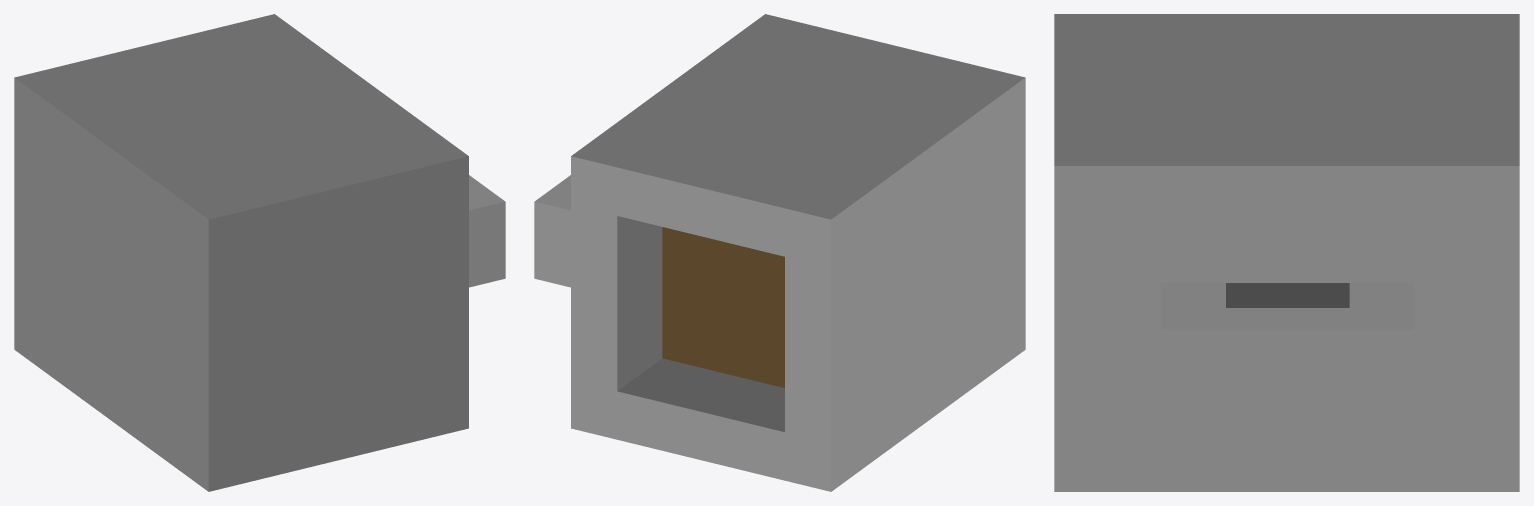
Rendered from CoffeeMug.glb.
3 views of the same model, side by side, from view 1: azimuth 30°, elevation 25°; view 2: azimuth 150°, elevation 25°; view 3: azimuth 270°, elevation 25° (orthographic). The views are drawn at different scales.
Visible parts, largest first — view 1: SO_CoffeeCup_01; view 2: SO_CoffeeCup_01; view 3: SO_CoffeeCup_01.
Part boxes in pixels (x1,y1,x2,y2): SO_CoffeeCup_01: [14, 14, 505, 491]; SO_CoffeeCup_01: [534, 14, 1025, 491]; SO_CoffeeCup_01: [1054, 14, 1519, 491].
Bounding box in the file's own units: 0.2731 × 0.2083 × 0.2694.
1 material, 1 textured.
